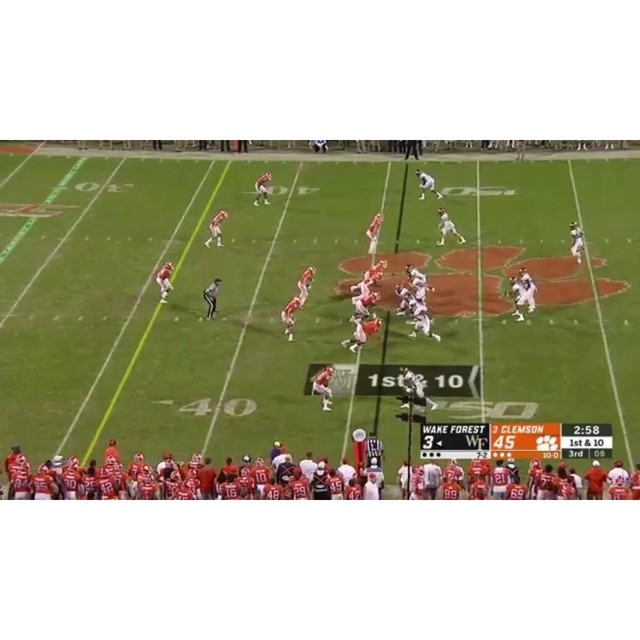american-football-player: (398, 366, 436, 420), (511, 268, 539, 318), (344, 318, 384, 353), (408, 303, 442, 343), (311, 364, 336, 411), (436, 207, 466, 246), (281, 295, 305, 342), (348, 293, 379, 325), (365, 212, 384, 264), (205, 209, 229, 248), (296, 265, 317, 307), (415, 169, 442, 200), (155, 261, 174, 303), (568, 220, 585, 265), (394, 284, 416, 317), (254, 172, 273, 206), (404, 264, 428, 286)
referee: (202, 277, 222, 321)
